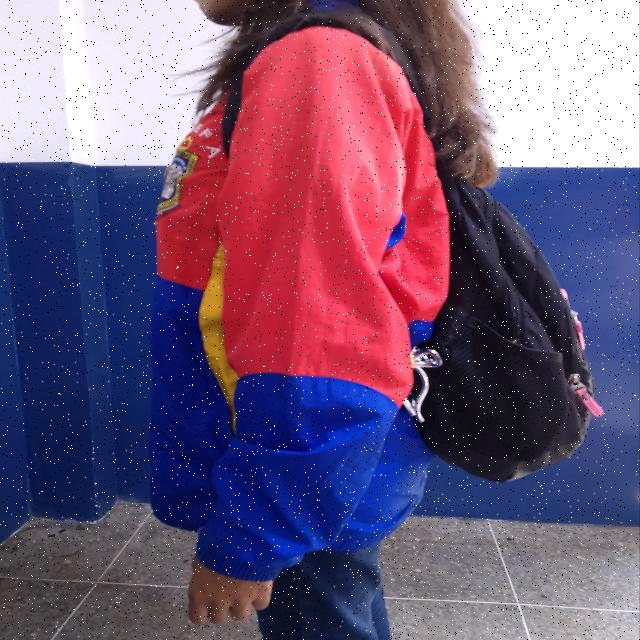chaqueta_unefa: (140, 22, 453, 582)
